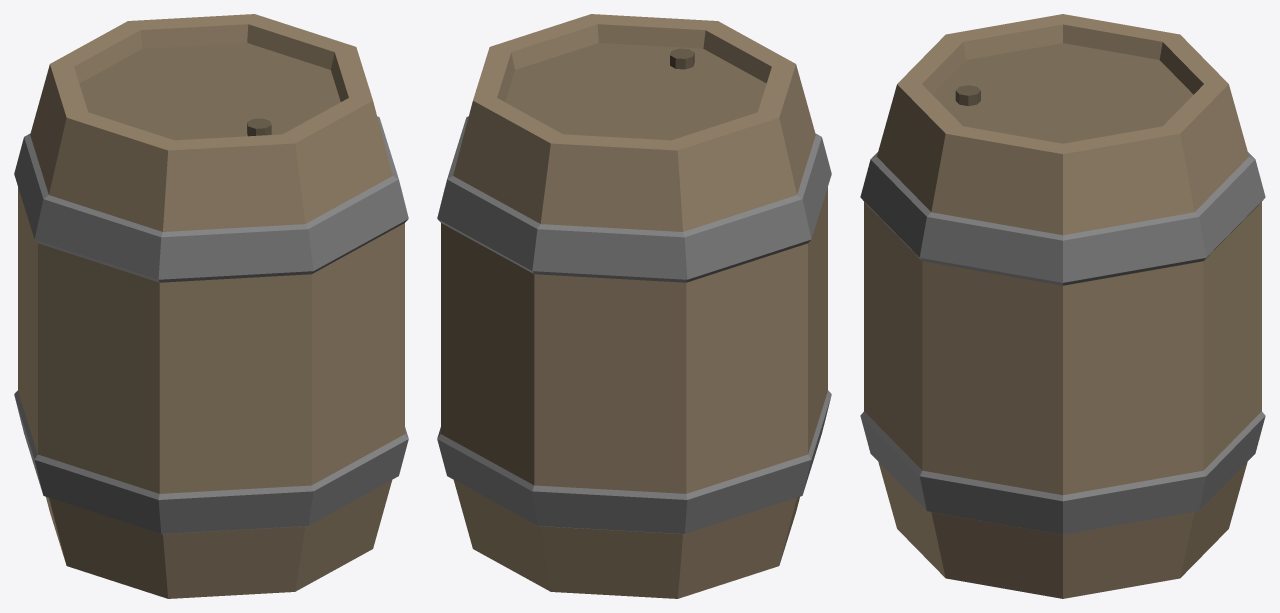
Rendered from Barrel.fbx.
The picture shows the model from 3 angles, left to right: view 1: azimuth 30°, elevation 25°; view 2: azimuth 150°, elevation 25°; view 3: azimuth 270°, elevation 25°; orthographic projection.
Parts seen in each view (by area): view 1: Barrel; view 2: Barrel; view 3: Barrel.
Boxes of the visible parts, left/top/right/bottom form: Barrel: left=14, top=14, right=408, bottom=598; Barrel: left=437, top=14, right=831, bottom=598; Barrel: left=860, top=14, right=1265, bottom=598.
Bounding box in the file's own units: 63.39 × 76.75 × 63.39.
